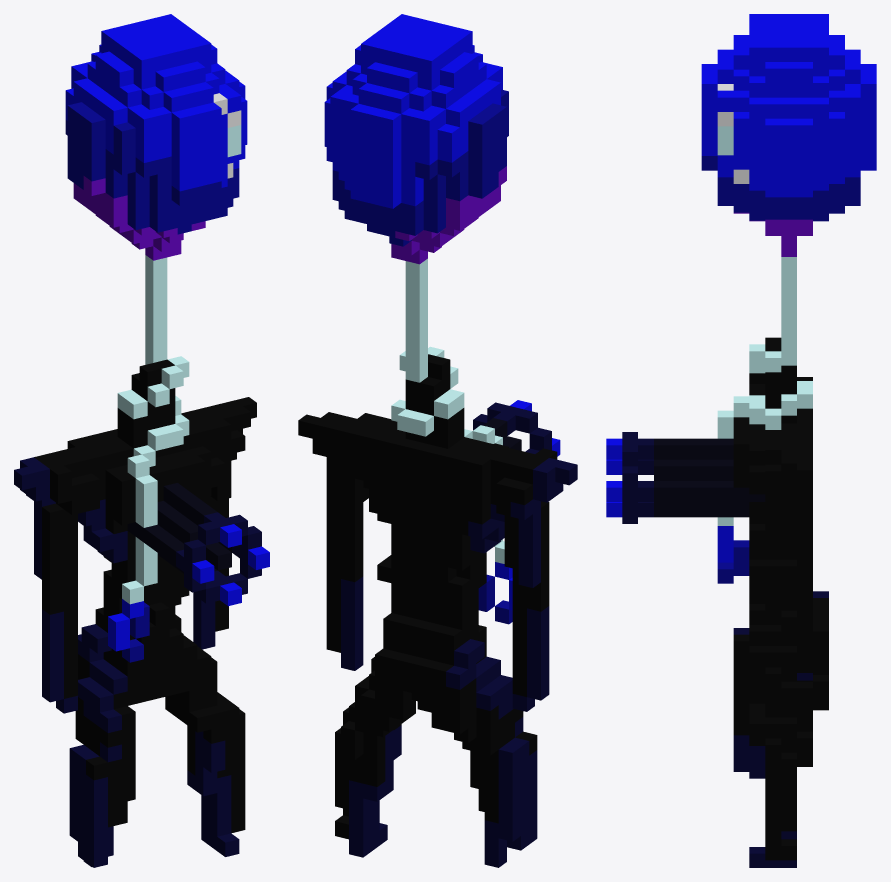
Rendered from BalloonEnemy_Range.obj.
The picture shows the model from 3 angles, left to right: view 1: azimuth 30°, elevation 25°; view 2: azimuth 150°, elevation 25°; view 3: azimuth 270°, elevation 25°; orthographic projection. The views are drawn at different scales.
Bounding box in the file's own units: 1.8 × 5.6 × 1.7.
1 material, 1 textured.
